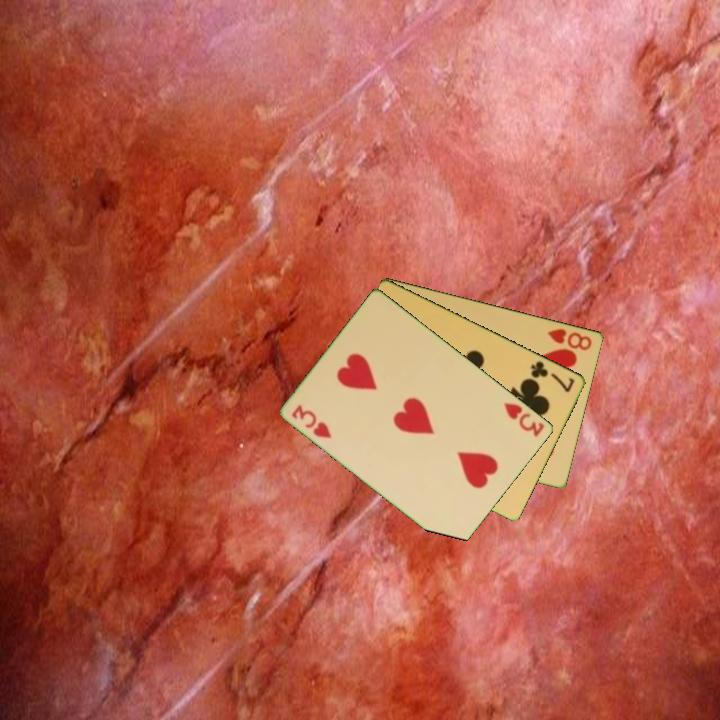3h: (500, 399, 548, 440), (288, 401, 335, 441)
7c: (527, 357, 578, 395)
8h: (544, 324, 595, 353)
